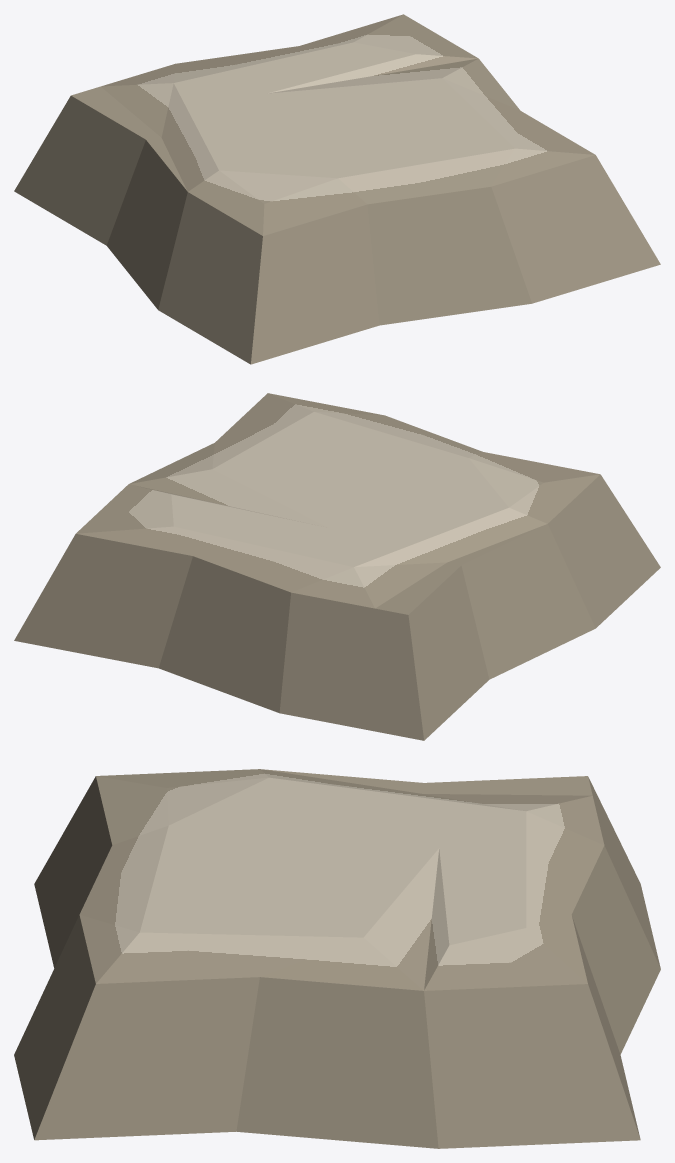
File: Rock_03.fbx
3 views of the same model, one above another, from view 1: azimuth 30°, elevation 25°; view 2: azimuth 150°, elevation 25°; view 3: azimuth 270°, elevation 25° (orthographic). The views are drawn at different scales.
Visible parts, largest first — view 1: Rock_03; view 2: Rock_03; view 3: Rock_03.
Boxes of the visible parts, left/top/right/bottom form: Rock_03: left=14, top=14, right=660, bottom=364; Rock_03: left=14, top=393, right=660, bottom=740; Rock_03: left=14, top=769, right=660, bottom=1148.
Bounding box in the file's own units: 63.72 × 15.91 × 63.72.
Materials: 1 (1 with a texture image).
